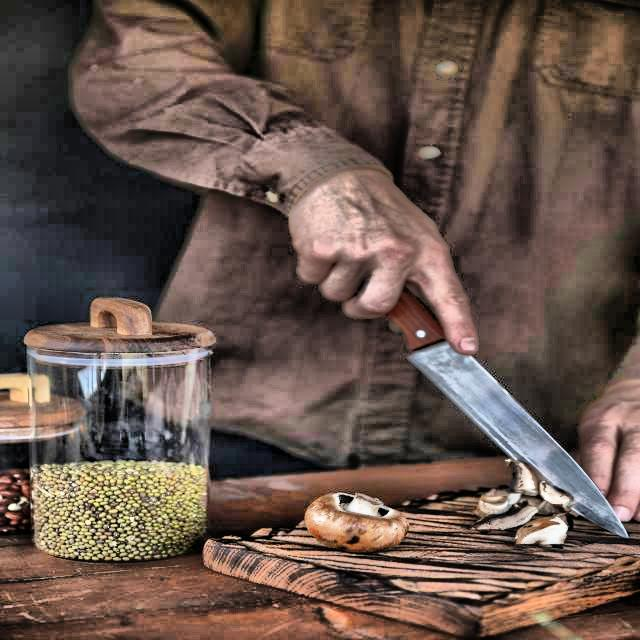knife: (252, 173, 638, 544)
